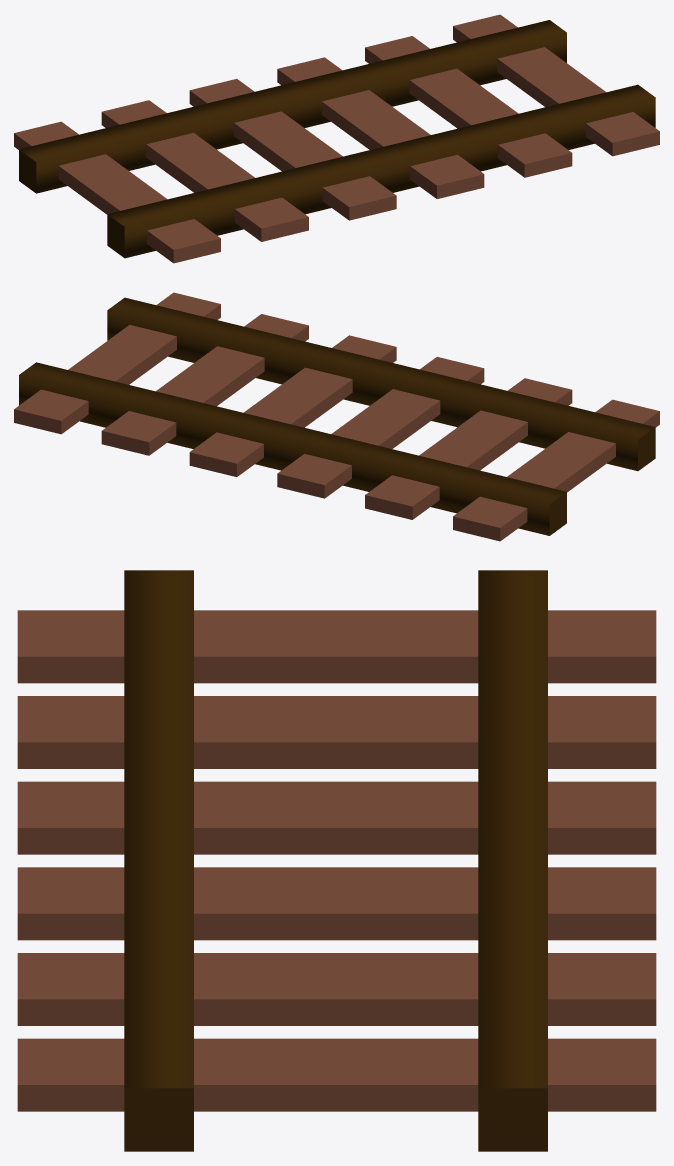
The model's file is Rails_straight.fbx.
3 renders of one model, top to bottom at view 1: azimuth 30°, elevation 25°; view 2: azimuth 150°, elevation 25°; view 3: azimuth 270°, elevation 25°, orthographic. The views are drawn at different scales.
Visible parts, largest first — view 1: Planks, Rails; view 2: Planks, Rails; view 3: Planks, Rails.
Part boxes in pixels (x1=…): Planks: x1=14, y1=14, x2=659, y2=263; Rails: x1=19, y1=20, x2=655, y2=258; Planks: x1=14, y1=292, x2=659, y2=541; Rails: x1=19, y1=297, x2=655, y2=535; Planks: x1=17, y1=610, x2=656, y2=1111; Rails: x1=124, y1=570, x2=547, y2=1151.
Bounding box in the file's own units: 173 × 9.84 × 90.25.
